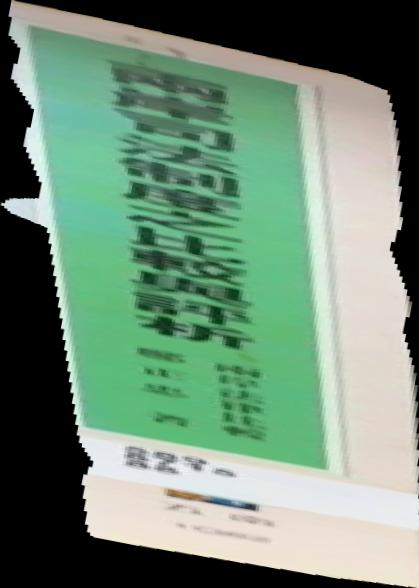book: (1, 1, 419, 588)
